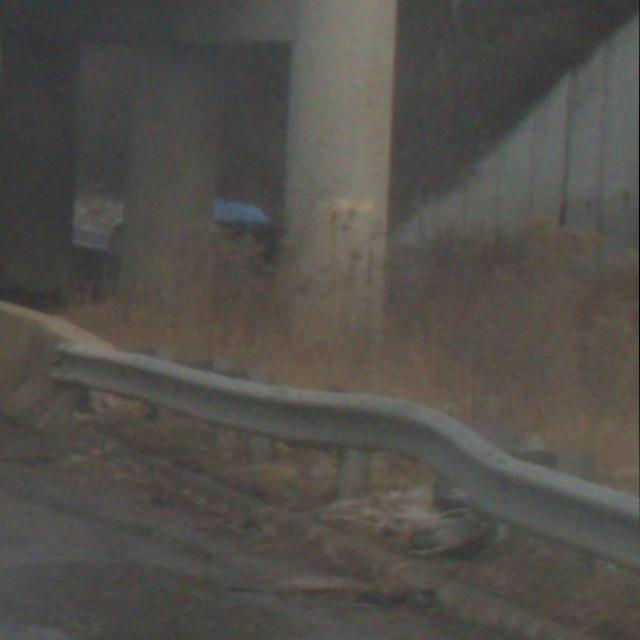Guard rail: (40, 336, 640, 606)
